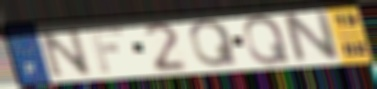2: (142, 19, 194, 74)
F: (86, 25, 126, 74)
N: (278, 8, 343, 66), (35, 25, 95, 80)
Q: (241, 14, 293, 67), (188, 18, 241, 69)
